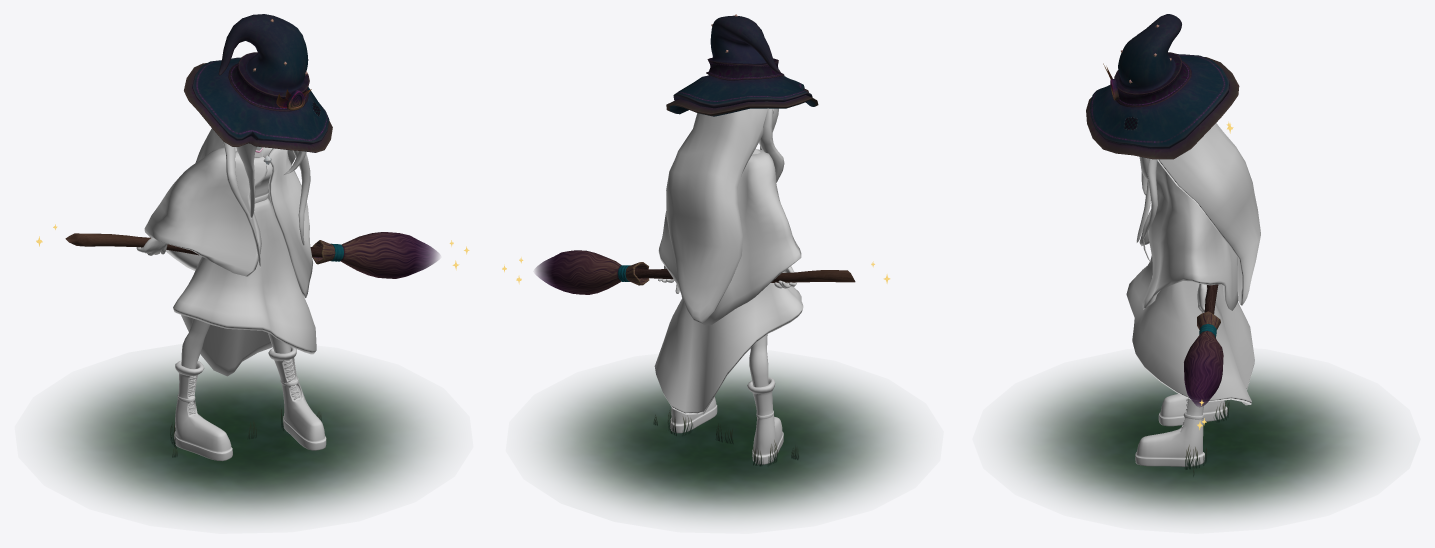
3 views of the same model, side by side, from view 1: azimuth 30°, elevation 25°; view 2: azimuth 150°, elevation 25°; view 3: azimuth 270°, elevation 25° (orthographic). The views are drawn at different scales.
Parts seen in each view (by area): view 1: polySurface10, Hat, Cape, Dress_L, Body, Broom_LP1, HairLP; view 2: polySurface10, HairLP, Dress_L, Hat, Cape, Broom_LP1, Body; view 3: polySurface10, Hat, Dress_L, HairLP, Cape, Body, Broom_LP1.
Boxes of the visible parts, box(x1,y1,x2,y2) form: polySurface10: box(50, 356, 437, 518); Hat: box(184, 14, 332, 152); Cape: box(144, 147, 313, 298); Dress_L: box(173, 163, 316, 376); Body: box(136, 146, 326, 461); Broom_LP1: box(65, 232, 439, 278); HairLP: box(195, 128, 310, 267); polySurface10: box(539, 364, 909, 519); HairLP: box(666, 108, 784, 323); Dress_L: box(654, 283, 803, 414); Hat: box(666, 14, 818, 116); Cape: box(658, 149, 801, 325); Broom_LP1: box(535, 250, 855, 294); Body: box(658, 149, 796, 464); polySurface10: box(1008, 364, 1384, 518); Hat: box(1086, 14, 1239, 159); Dress_L: box(1126, 255, 1254, 405); HairLP: box(1136, 123, 1260, 305); Cape: box(1139, 162, 1238, 310); Body: box(1135, 284, 1227, 466); Broom_LP1: box(1184, 284, 1223, 407).
Bounding box in the file's own units: 585 × 567 × 545.
